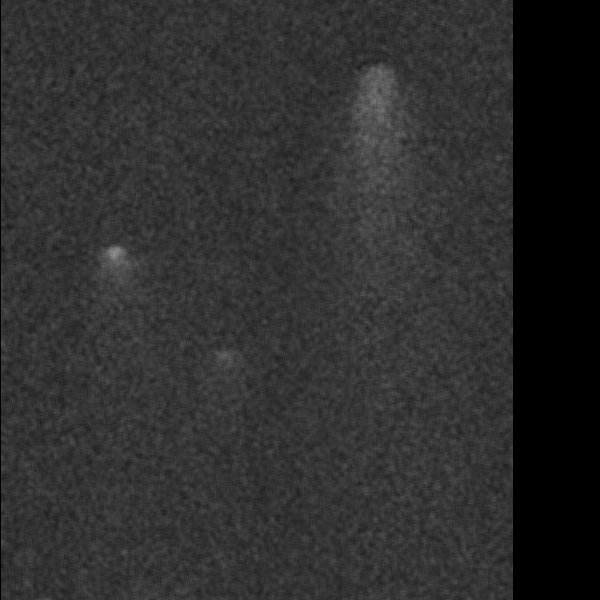spark: (213, 192, 243, 231)
